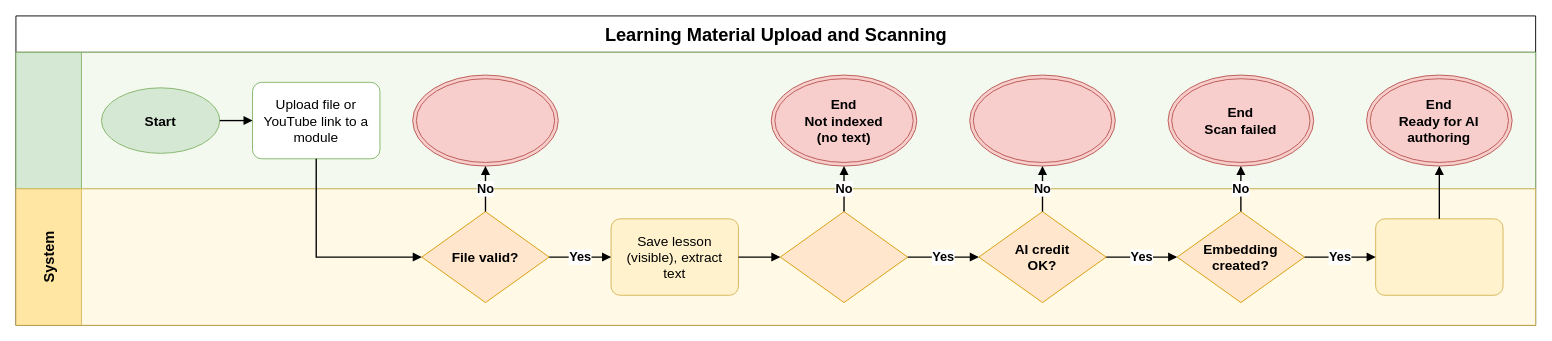
The diagram is 1552 pixels wide and 341 high, and some of its shapes have lost their labels. Each missing label, with the box of its shape:
End Busy or no credit: (969, 74, 1115, 166)
End Upload rejected: (412, 74, 558, 166)
Save index, settle credit: (1375, 218, 1503, 295)
Subject Manager or Teacher: (15, 51, 1536, 189)
Text found?: (779, 211, 908, 303)
